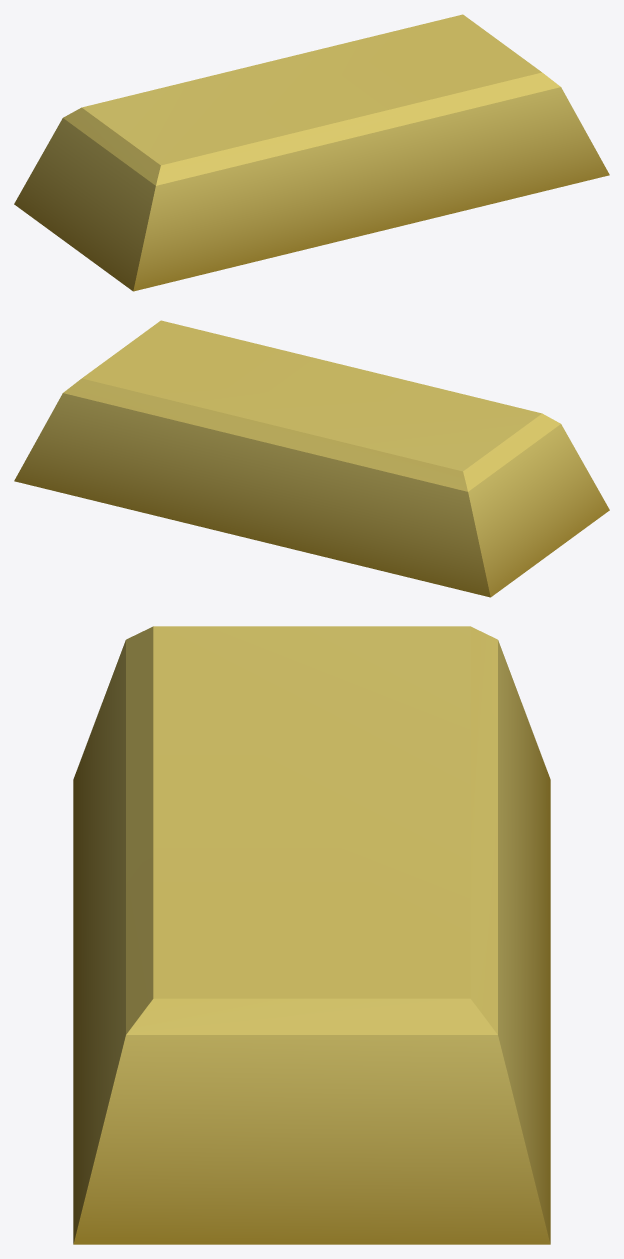
The model's file is Gold_Bar.glb.
The picture shows the model from 3 angles, top to bottom: view 1: azimuth 30°, elevation 25°; view 2: azimuth 150°, elevation 25°; view 3: azimuth 270°, elevation 25°; orthographic projection. The views are drawn at different scales.
Parts seen in each view (by area): view 1: GoldBar; view 2: GoldBar; view 3: GoldBar.
Boxes of the visible parts, x1=… form: GoldBar: x1=14, y1=14, x2=609, y2=291; GoldBar: x1=14, y1=320, x2=609, y2=597; GoldBar: x1=73, y1=626, x2=550, y2=1244.
Size of the model in its own units: 0.6 by 0.12 by 0.26.
